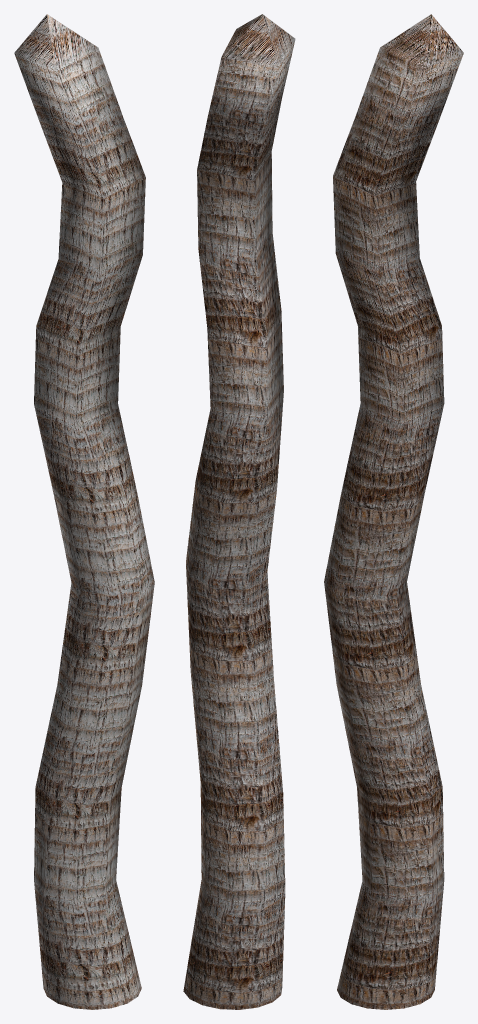
The model's file is trunk.glb.
The picture shows the model from 3 angles, left to right: view 1: azimuth 90°, elevation 25°; view 2: azimuth 210°, elevation 25°; view 3: azimuth 270°, elevation 25°; orthographic projection.
Parts seen in each view (by area): view 1: trunk; view 2: trunk; view 3: trunk.
Part boxes in pixels (<box>): trunk: <box>14,14,154,1009</box>; trunk: <box>183,14,295,1009</box>; trunk: <box>324,14,463,1009</box>.
Size of what is drawn, in the model's own units: 1.34 by 14.48 by 1.89.
1 material, 1 textured.
